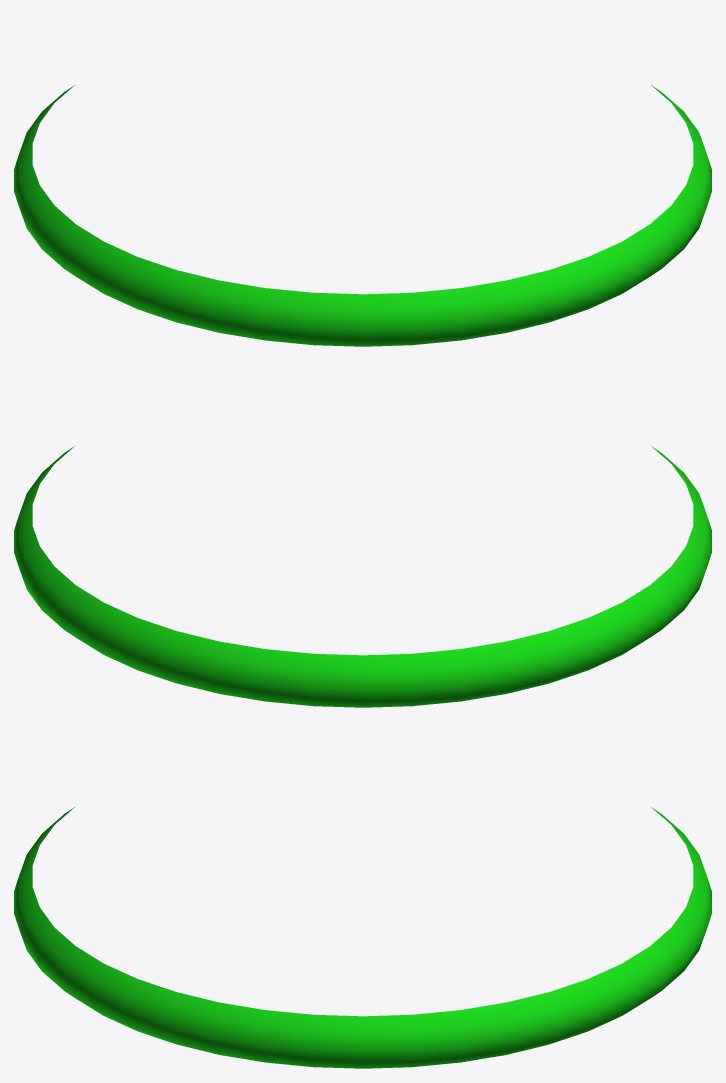
The model's file is rotation-gizmo-flat-y.glb.
3 views of the same model, one above another, from view 1: azimuth 30°, elevation 25°; view 2: azimuth 150°, elevation 25°; view 3: azimuth 270°, elevation 25° (orthographic).
Visible parts, largest first — view 1: rotation-gizmo-flat-y; view 2: rotation-gizmo-flat-y; view 3: rotation-gizmo-flat-y.
Part boxes in pixels (x1,y1,x2,y2): rotation-gizmo-flat-y: (14,85,711,346); rotation-gizmo-flat-y: (14,446,711,707); rotation-gizmo-flat-y: (14,807,711,1068).
Bounding box in the file's own units: 6.6 × 0.5458 × 6.58.
